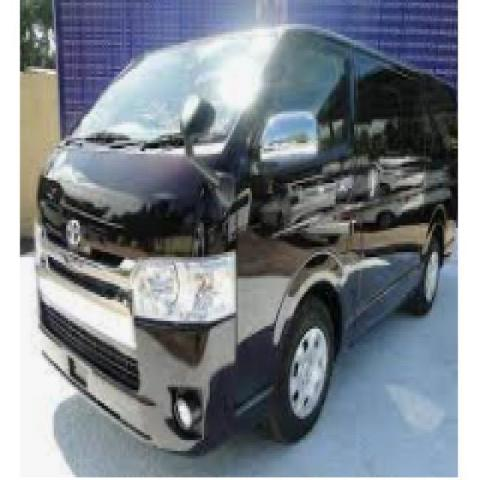van: (32, 24, 451, 458)
